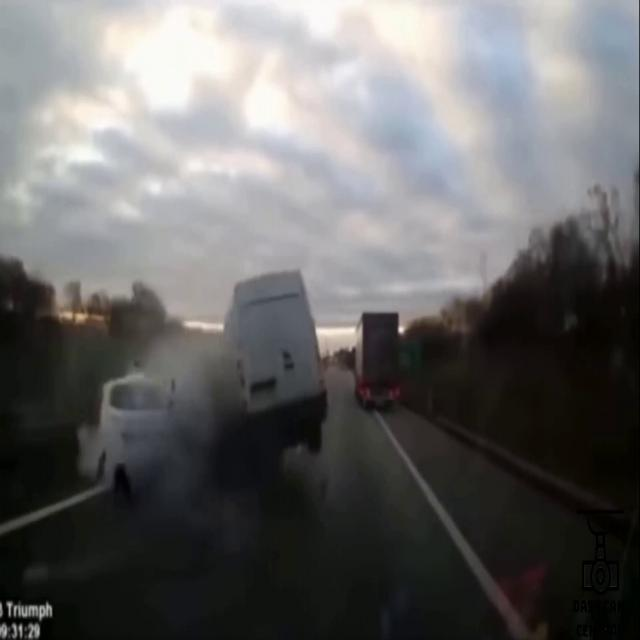accident: (96, 270, 312, 469)
